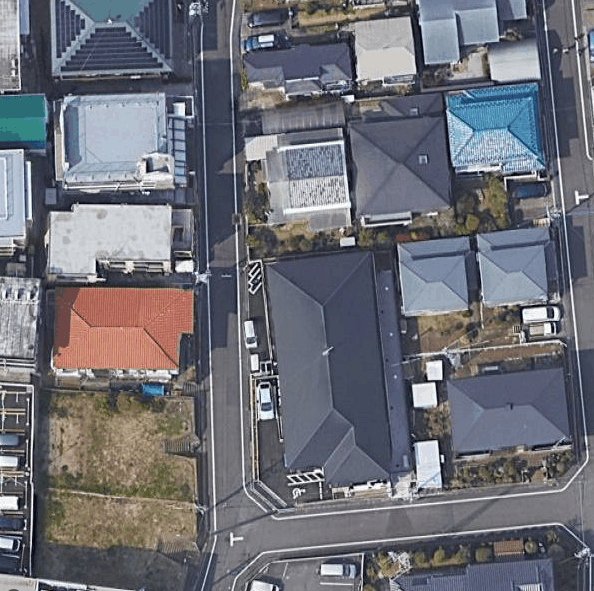facility: (51, 82, 177, 190)
flatroof: (47, 201, 195, 275)
solarpanel_slope: (43, 1, 180, 72)
